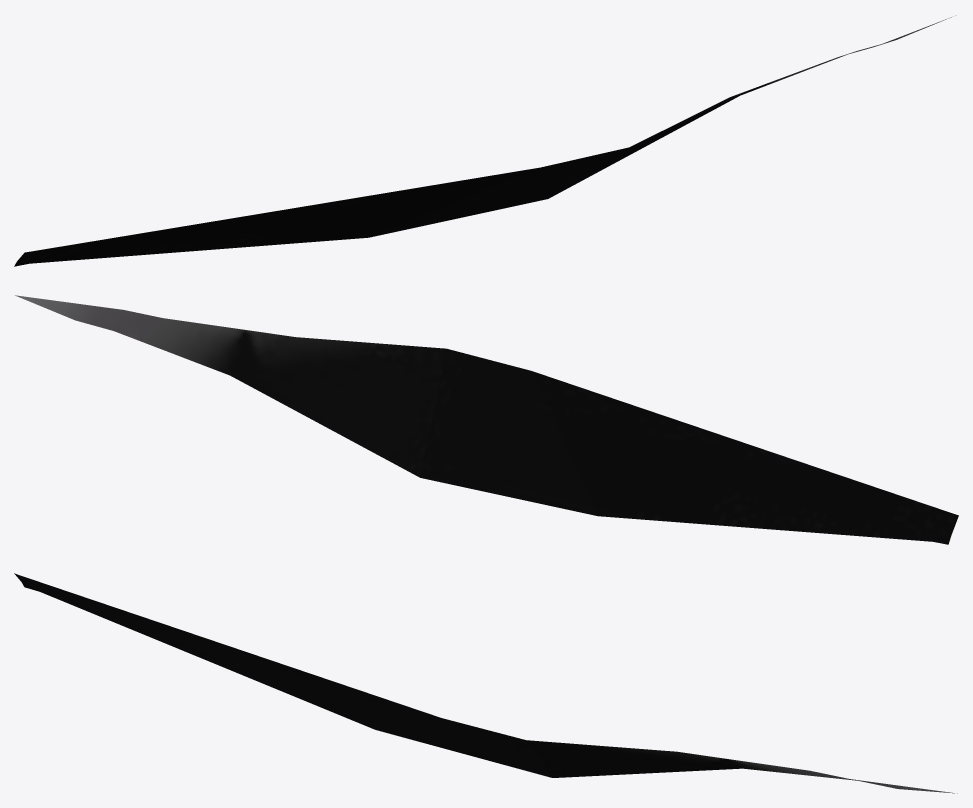
The picture shows the model from 3 angles, top to bottom: view 1: azimuth 30°, elevation 25°; view 2: azimuth 150°, elevation 25°; view 3: azimuth 330°, elevation 25°; orthographic projection.
Bounding box in the file's own units: 2.36 × 0.2014 × 0.233.
Materials: 1 (1 with a texture image).
